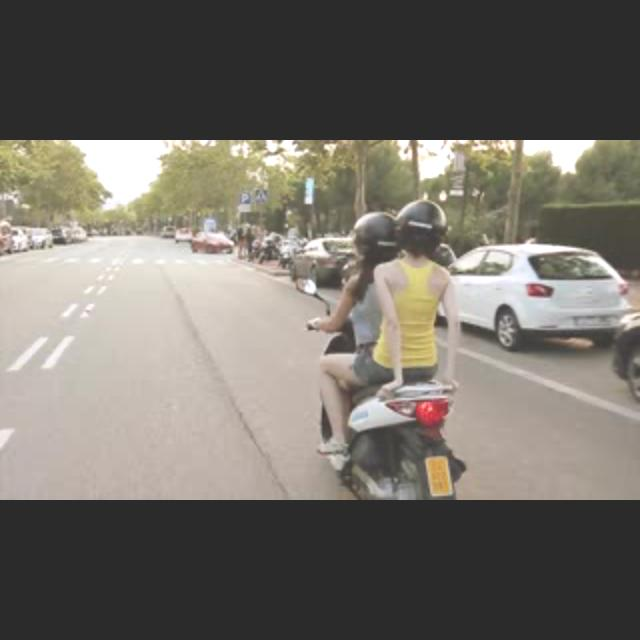With Helmet: (398, 196, 448, 256), (350, 212, 396, 260)
